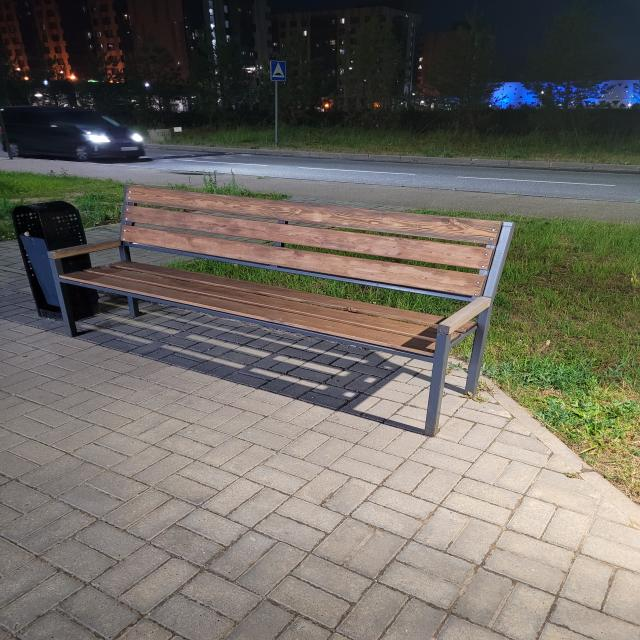Bench: (48, 185, 515, 436)
